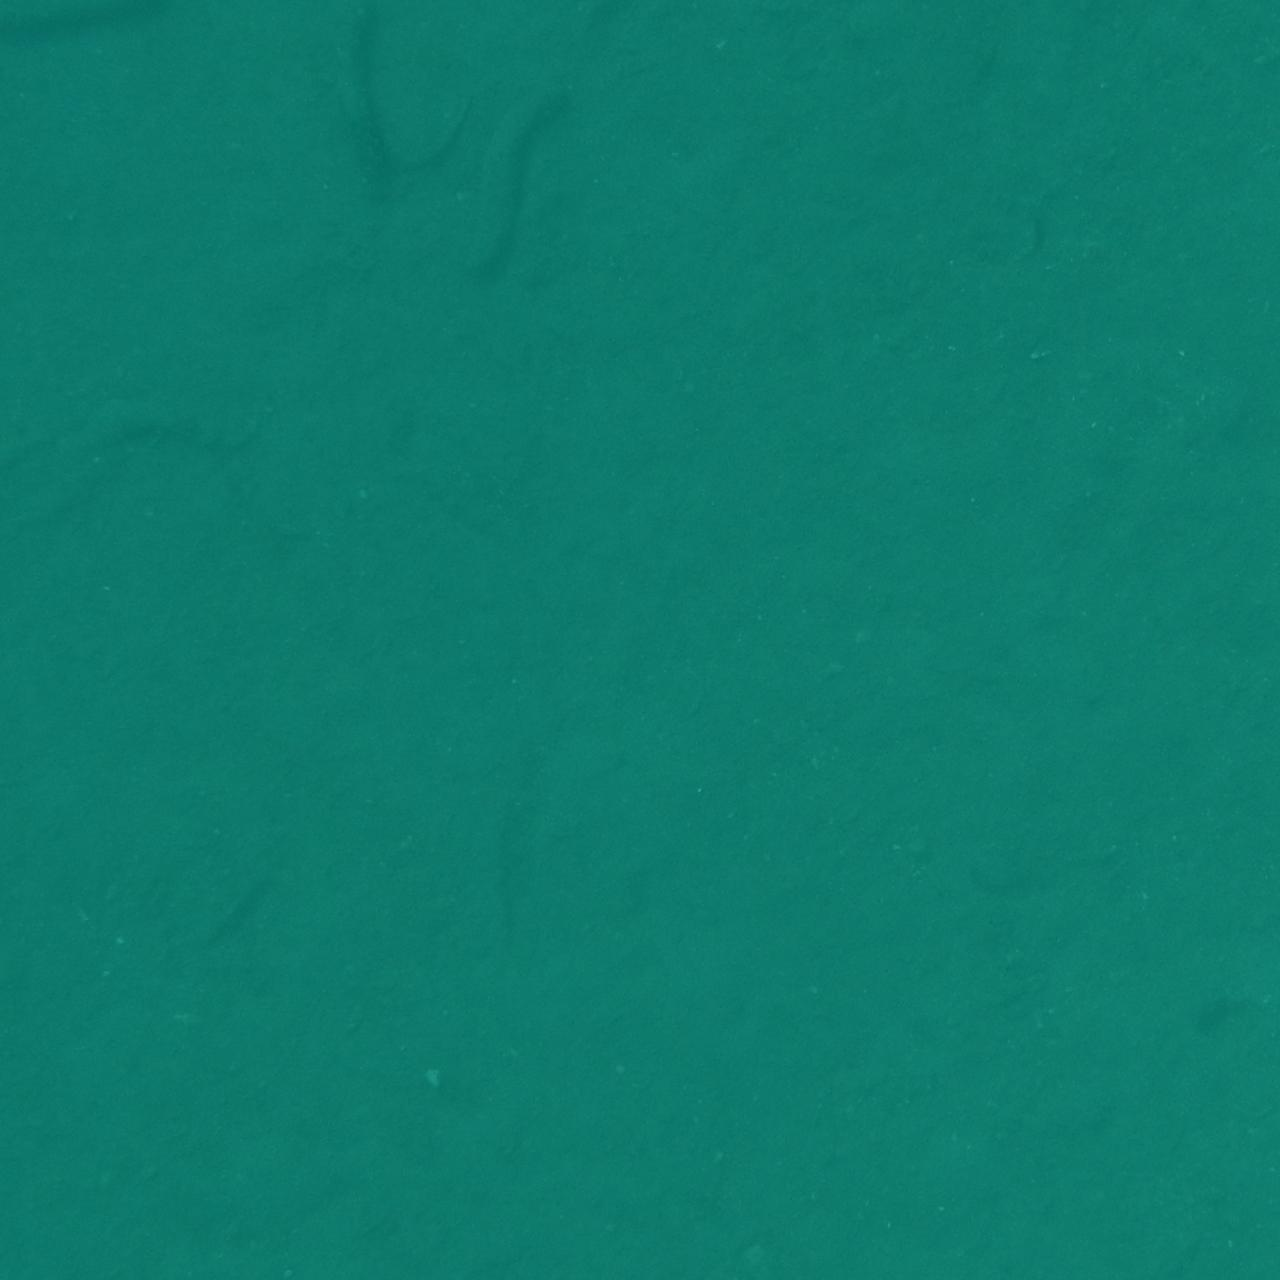Holothuria tubulosa: (313, 0, 497, 195), (518, 0, 802, 89), (39, 376, 270, 470), (334, 0, 560, 94), (1136, 0, 1280, 127), (0, 0, 123, 138), (986, 1194, 1175, 1280), (0, 418, 129, 542), (1185, 1133, 1280, 1280), (0, 0, 199, 68), (600, 0, 803, 62), (1124, 0, 1280, 80), (1177, 556, 1280, 674), (0, 0, 63, 188), (1189, 856, 1280, 966), (0, 0, 125, 79), (440, 0, 652, 46), (0, 1173, 80, 1280), (0, 0, 154, 53), (1205, 1179, 1280, 1280), (1171, 1224, 1280, 1280), (0, 0, 47, 127), (1175, 0, 1280, 56), (1177, 0, 1280, 55), (1207, 0, 1280, 77)
